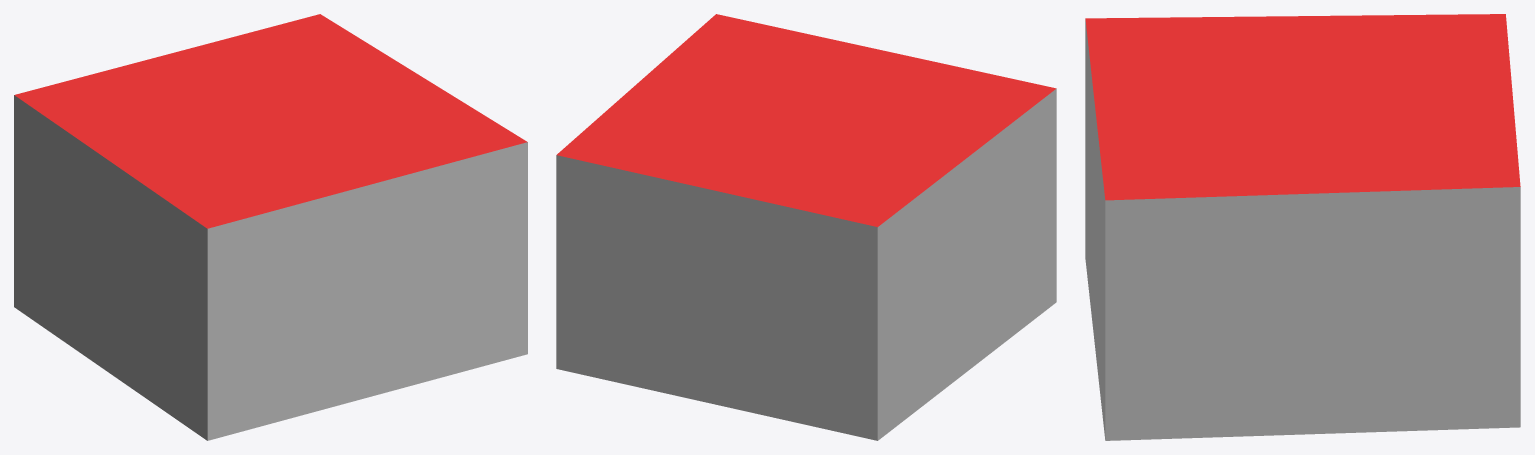
Rendered from DEBY_LOD2_4728455.dae.
3 renders of one model, left to right at view 1: azimuth 30°, elevation 25°; view 2: azimuth 150°, elevation 25°; view 3: azimuth 270°, elevation 25°, orthographic. The views are drawn at different scales.
Size of the model in its own units: 5.1 by 5.03 by 3.07.
